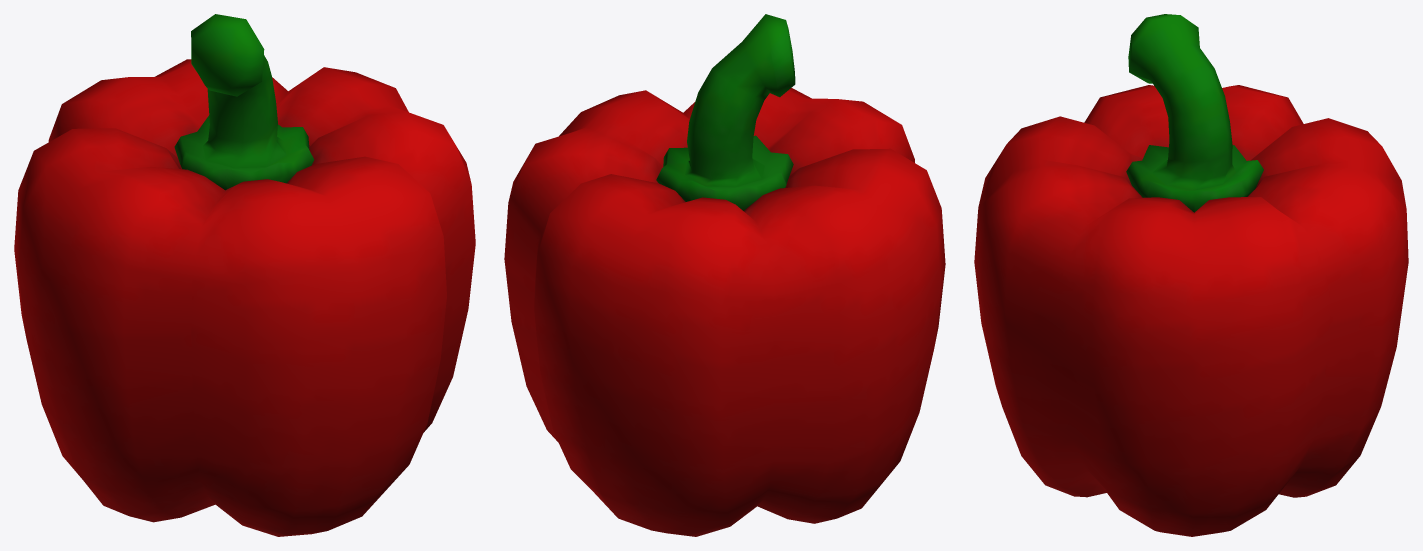
The model's file is Bellpepper.obj.
The picture shows the model from 3 angles, left to right: view 1: azimuth 30°, elevation 25°; view 2: azimuth 150°, elevation 25°; view 3: azimuth 270°, elevation 25°; orthographic projection. The views are drawn at different scales.
Parts seen in each view (by area): view 1: Bellpepper; view 2: Bellpepper; view 3: Bellpepper.
Boxes of the visible parts, x1=… form: Bellpepper: x1=14, y1=14, x2=475, y2=536; Bellpepper: x1=504, y1=14, x2=945, y2=536; Bellpepper: x1=974, y1=14, x2=1408, y2=536.
Size of the model in its own units: 0.1745 by 0.199 by 0.172.
Materials: 1 (1 with a texture image).
